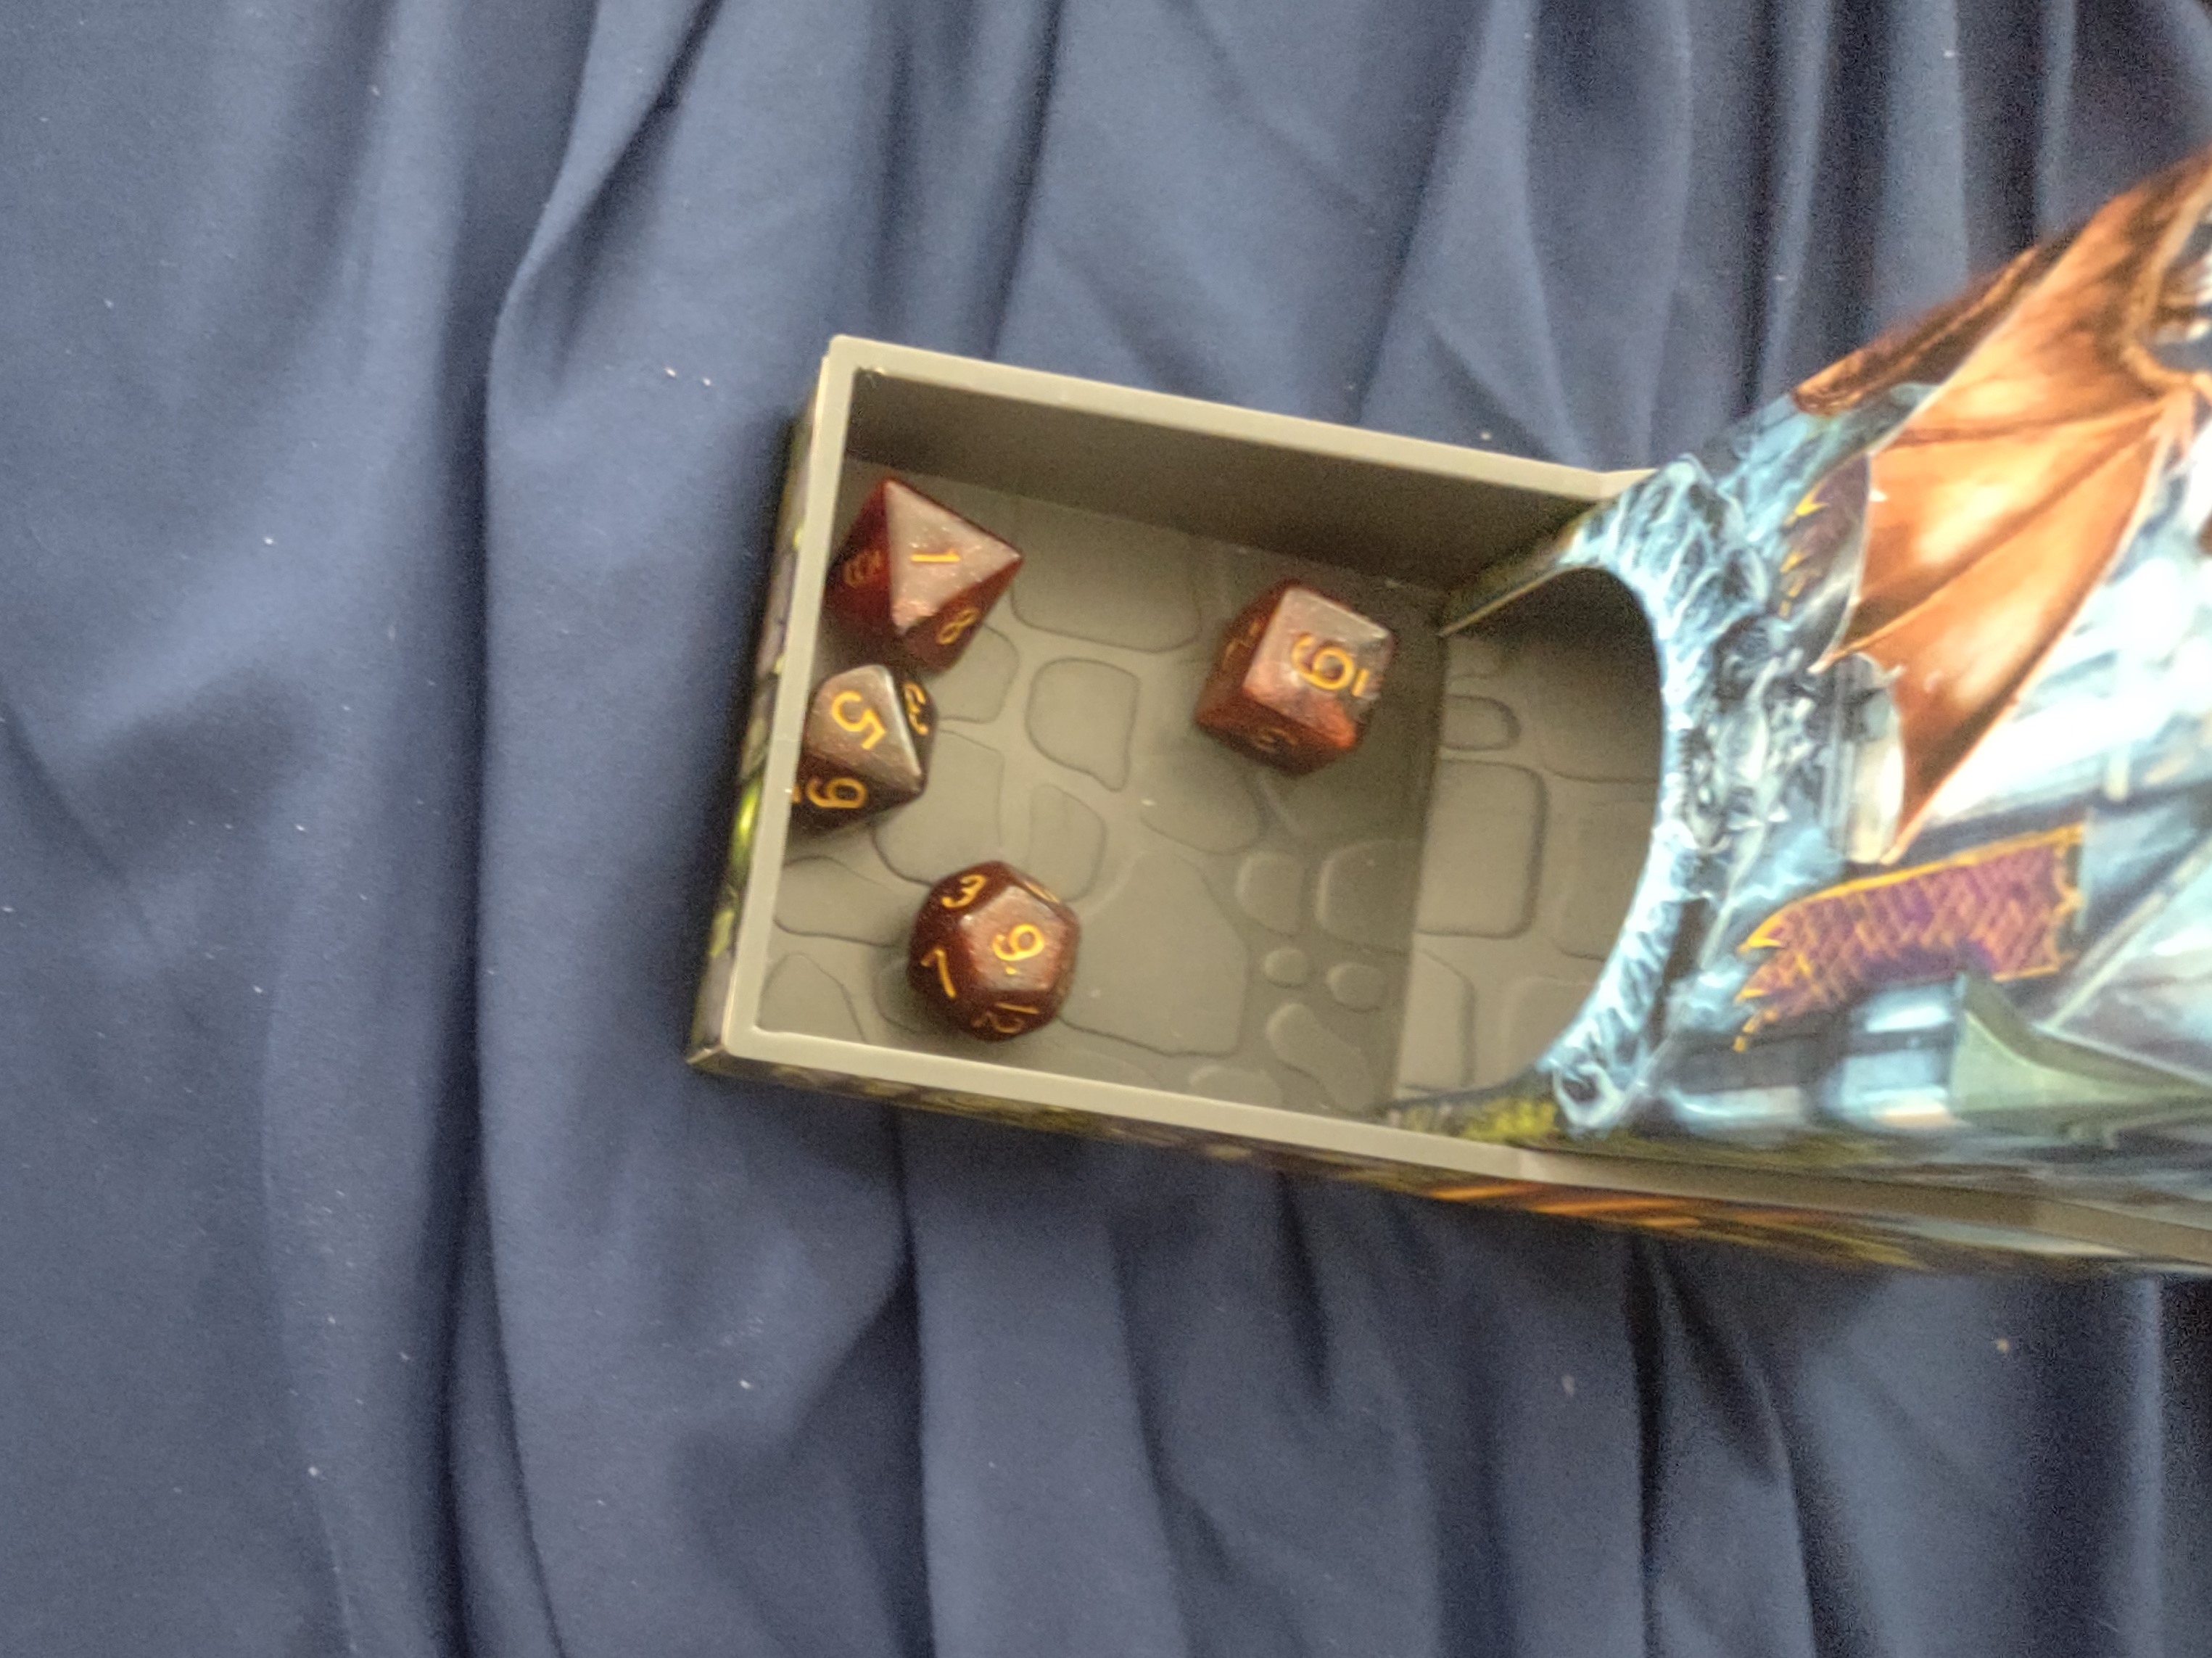five: (761, 636, 958, 846)
nine: (895, 836, 1113, 1095)
one: (801, 451, 1050, 728)
six: (1169, 559, 1423, 796)
